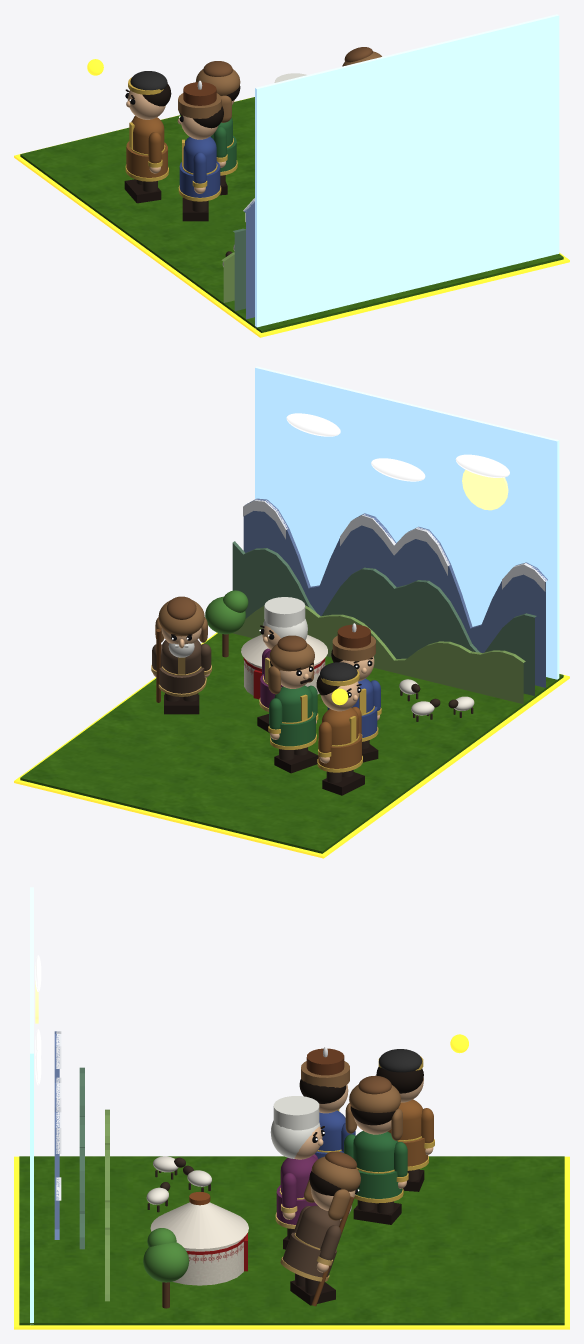
3 views of the same model, one above another, from view 1: azimuth 30°, elevation 25°; view 2: azimuth 150°, elevation 25°; view 3: azimuth 270°, elevation 25° (orthographic). The views are drawn at different scales.
Visible parts, largest first — view 1: Аспан, Жер, Жиек, Torso (×2), Skirt (×2), Face (×2), Алыс жота, Орта жота, Borik, Rim, Tymaq, Takiya (+1 smaller); view 2: Аспан, Жер, Орта жота, Алыс жота, Жақын төбе, Жиек, Skirt (×3), Бұлт (×3), Torso (×3), Қар, Tymaq (×2), Күн (+5 smaller); view 3: Жер, Torso (×5), Жиек, Күмбез, Skirt (×2), Tymaq (×2), Кереге, Аспан, Жапырақ, Hair (×2), Turban, Орта жота (+7 smaller).
Boxes of the visible parts, <box> form: Аспан: <box>255,14,559,328</box>; Жер: <box>20,97,563,332</box>; Жиек: <box>14,98,569,337</box>; Torso (×2): <box>131,116,216,173</box>; Skirt (×2): <box>126,141,220,197</box>; Face (×2): <box>127,90,217,139</box>; Алыс жота: <box>244,199,254,319</box>; Орта жота: <box>233,228,245,311</box>; Borik: <box>183,82,216,105</box>; Rim: <box>178,93,221,118</box>; Tymaq: <box>196,69,240,95</box>; Takiya: <box>130,71,167,90</box>; Аспан: <box>255,366,559,679</box>; Жер: <box>20,633,563,853</box>; Орта жота: <box>232,541,536,695</box>; Алыс жота: <box>243,498,547,687</box>; Жақын төбе: <box>232,605,525,704</box>; Жиек: <box>14,632,569,858</box>; Skirt (×3): <box>159,667,361,768</box>; Бұлт (×3): <box>286,413,509,481</box>; Torso (×3): <box>162,640,358,745</box>; Қар: <box>243,499,546,591</box>; Tymaq (×2): <box>158,600,314,671</box>; Күн: <box>462,469,508,510</box>; Жер: <box>19,1156,564,1325</box>; Torso (×5): <box>280,1099,422,1248</box>; Жиек: <box>14,1156,569,1329</box>; Күмбез: <box>150,1202,248,1248</box>; Skirt (×2): <box>282,1170,402,1277</box>; Tymaq (×2): <box>311,1084,400,1191</box>; Кереге: <box>172,1237,243,1285</box>; Аспан: <box>30,887,33,1324</box>; Жапырақ: <box>143,1242,189,1282</box>; Hair (×2): <box>299,1067,423,1103</box>; Turban: <box>273,1096,319,1130</box>; Орта жота: <box>79,1067,84,1249</box>.
Bounding box in the file's own units: 0.9635 × 0.7206 × 1.33.
Materials: 41 (2 with a texture image).
